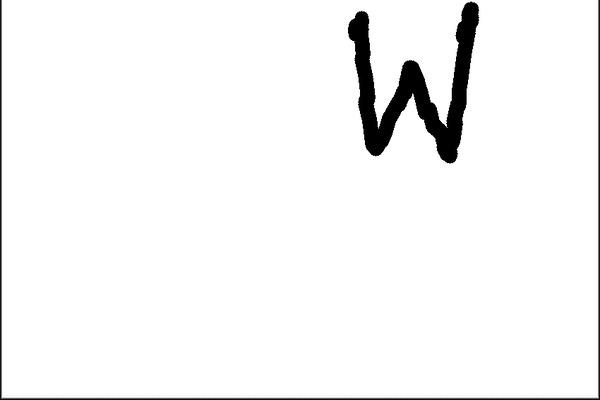w: (326, 0, 496, 172)
